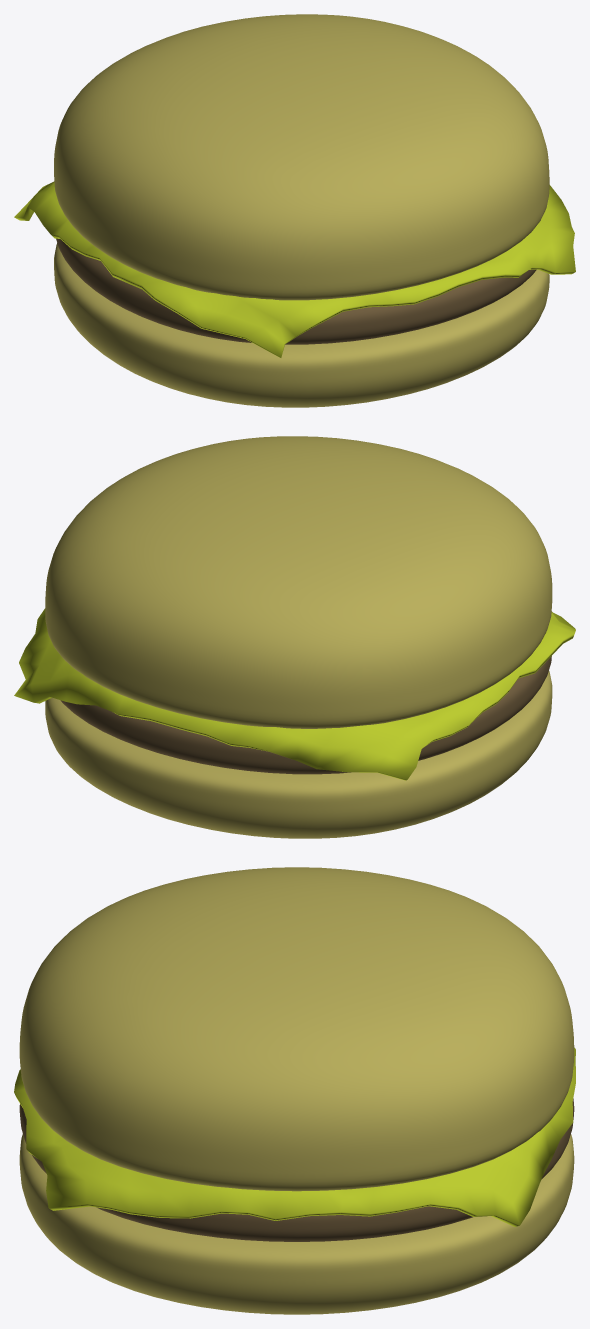
File: burger.glb
3 views of the same model, one above another, from view 1: azimuth 30°, elevation 25°; view 2: azimuth 150°, elevation 25°; view 3: azimuth 270°, elevation 25° (orthographic). The views are drawn at different scales.
Visible parts, largest first — view 1: Cube.001, Cube, Plane, Cube.002; view 2: Cube.001, Cube, Plane, Cube.002; view 3: Cube.001, Cube, Plane, Cube.002.
Boxes of the visible parts, x1,y1,x2,y2 form: Cube.001: [54, 14, 549, 300]; Cube: [54, 243, 549, 407]; Plane: [14, 181, 575, 357]; Cube.002: [56, 238, 536, 344]; Cube.001: [45, 436, 552, 728]; Cube: [45, 671, 552, 838]; Plane: [14, 608, 575, 780]; Cube.002: [60, 656, 551, 774]; Cube.001: [19, 867, 574, 1191]; Cube: [19, 1134, 574, 1314]; Plane: [14, 1047, 575, 1226]; Cube.002: [19, 1098, 574, 1241].
Size of the model in its own units: 3.68 by 2.21 by 3.61.
